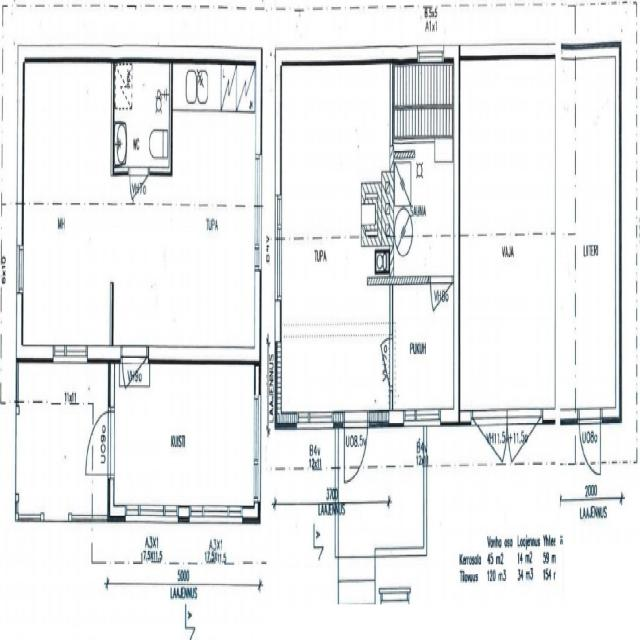door: (473, 411, 507, 519), (507, 411, 541, 519), (122, 346, 147, 426), (84, 411, 115, 475), (344, 411, 368, 492), (579, 411, 601, 488), (431, 275, 451, 338), (371, 338, 393, 388), (130, 167, 148, 224)
